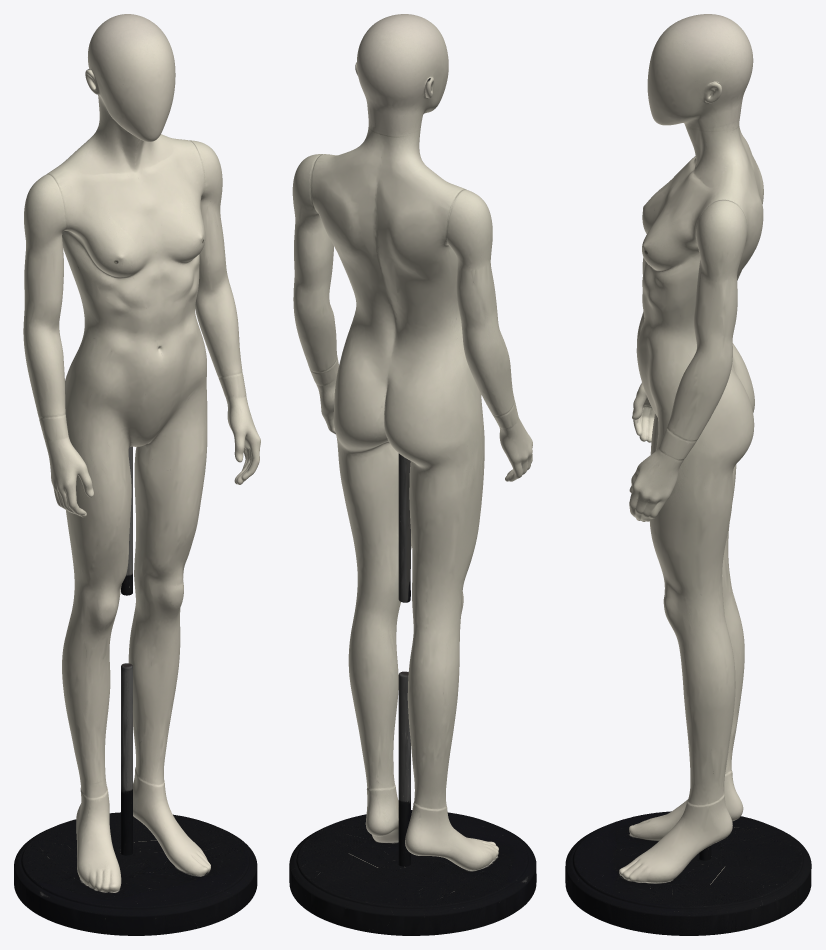
The model's file is DisplayMannequin.fbx.
The picture shows the model from 3 angles, left to right: view 1: azimuth 30°, elevation 25°; view 2: azimuth 150°, elevation 25°; view 3: azimuth 270°, elevation 25°; orthographic projection.
Visible parts, largest first — view 1: Mesh_0; view 2: Mesh_0; view 3: Mesh_0.
Boxes of the visible parts, left/top/right/bottom form: Mesh_0: left=14, top=14, right=260, bottom=935; Mesh_0: left=289, top=14, right=536, bottom=935; Mesh_0: left=565, top=14, right=811, bottom=935.
Size of the model in its own units: 48.91 by 190 by 48.88.
1 material, 1 textured.
